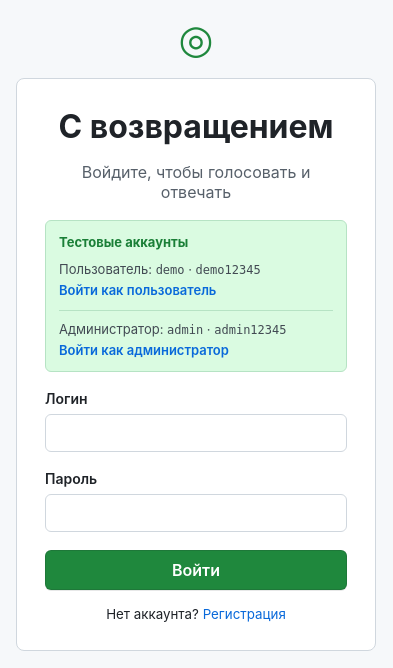
demo login › fills the shared test account credentials
Click the button "Войти как пользователь". click: click(138, 290)
box: [59,282,216,298]
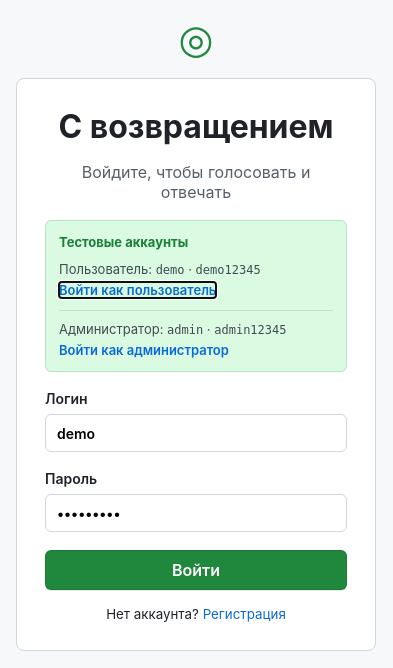
Expected: the field labelled "Логин" holds "demo", [45,414,347,452]
Expected: the password field labelled "Пароль" holds "demo12345", [45,494,347,532]
